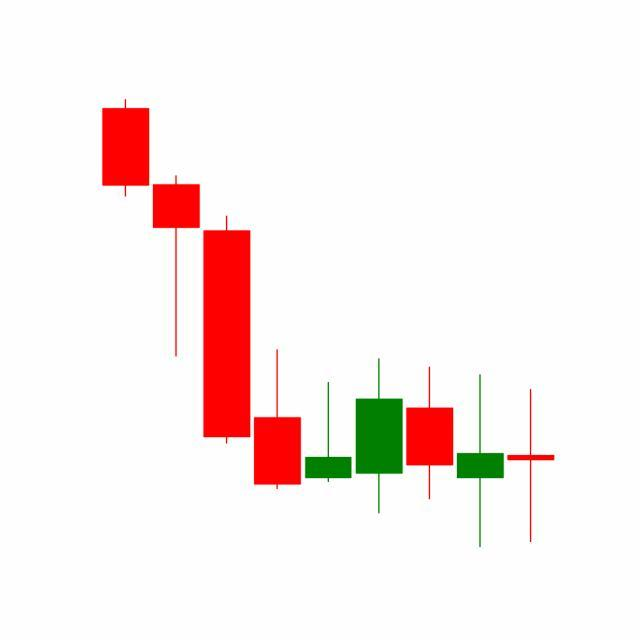Hikkake Pattern: (252, 347, 506, 549)
